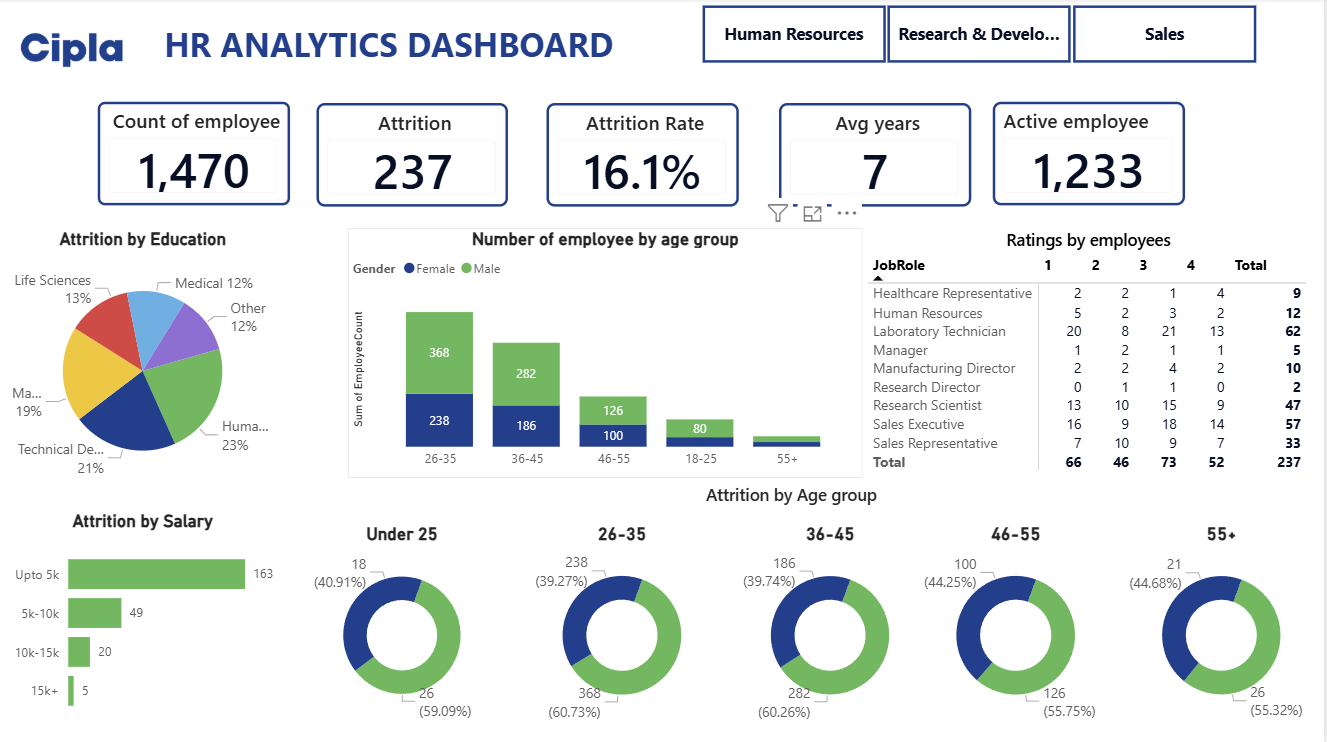

This screenshot's page, from the dashboard's own definition file:
{"tool":"powerbi","page":{"name":"Overview","canvas":[1280,720],"ordinal":0},"visuals":[{"type":"cardVisual","title":"Count of employee","fields":{"Data":["CountNonNull(HR_Analytics.EmpID)"]},"box":[95.7,100,185.7,100],"z":0},{"type":"cardVisual","title":"Attrition","fields":{"Data":["Sum(HR_Analytics.AttritionCount)"]},"box":[306.8,101.4,185,100],"z":1000},{"type":"cardVisual","title":"Attrition Rate","fields":{"Data":["HR_Analytics.AttritionRate"]},"box":[528.6,101.4,185.7,100],"z":2000},{"type":"cardVisual","title":"Avg years","fields":{"Data":["Avg(HR_Analytics.YearsAtCompany)"]},"box":[752.9,101.4,185.7,100],"z":3000},{"type":"pieChart","title":"Attrition by Education","fields":{"Category":["HR_Analytics.EducationField"],"Y":["HR_Analytics.AttritionRate"]},"box":[6,222,265.4,257],"z":4000},{"type":"columnChart","title":"Number of employee by age group","fields":{"Category":["HR_Analytics.AgeGroup"],"Y":["Sum(HR_Analytics.EmployeeCount)"],"Series":["HR_Analytics.Gender"]},"box":[336.6,222,497.1,241.3],"z":5000},{"type":"pivotTable","title":"Ratings by employees","fields":{"Rows":["HR_Analytics.JobRole"],"Columns":["HR_Analytics.JobSatisfaction"],"Values":["Sum(HR_Analytics.AttritionCount)"]},"box":[833.7,222,435.5,241.3],"z":6000},{"type":"barChart","title":"Attrition by Salary","fields":{"Category":["HR_Analytics.SalarySlab"],"Y":["Sum(HR_Analytics.AttritionCount)"]},"box":[6,494.6,265.4,209.9],"z":7000},{"type":"slicer","fields":{"Values":["HR_Analytics.Department"]},"box":[653.1,0,584.6,69.7],"z":8000},{"type":"textbox","box":[154.3,0,498.6,91.4],"z":9000},{"type":"cardVisual","title":"Active employee","fields":{"Data":["HR_Analytics.Active employee"]},"box":[958.6,100,185.7,100],"z":10000},{"type":"donutChart","title":"Under 25","fields":{"Category":["HR_Analytics.Gender"],"Y":["Sum(HR_Analytics.AttritionCount)"],"Series":["HR_Analytics.AgeGroup"]},"box":[290.8,506.7,196.6,197.9],"z":11000},{"type":"donutChart","title":"26-35","fields":{"Category":["HR_Analytics.Gender"],"Series":["HR_Analytics.AgeGroup"],"Y":["CountNonNull(HR_Analytics.Attrition)"]},"box":[500.7,506.7,201.5,197.9],"z":12000},{"type":"donutChart","title":"36-45","fields":{"Category":["HR_Analytics.Gender"],"Series":["HR_Analytics.AgeGroup"],"Y":["CountNonNull(HR_Analytics.Attrition)"]},"box":[702.1,506.7,200.3,197.9],"z":13000},{"type":"donutChart","title":"46-55","fields":{"Category":["HR_Analytics.Gender"],"Series":["HR_Analytics.AgeGroup"],"Y":["CountNonNull(HR_Analytics.Attrition)"]},"box":[880.7,506.7,201.5,197.9],"z":14000},{"type":"donutChart","title":"55+","fields":{"Category":["HR_Analytics.Gender"],"Series":["HR_Analytics.AgeGroup"],"Y":["CountNonNull(HR_Analytics.Attrition)"]},"box":[1079.8,506.7,200.3,197.9],"z":15000},{"type":"textbox","box":[291.4,462.9,945.7,31.4],"z":16000},{"type":"image","box":[0,0,138.6,100],"z":17000}]}

Visuals, with their boxes in screenshot pixels (x1, y1, x2, y2), scaled from the page's 1280x720 canvas onto the 1327x742 screenshot:
"Count of employee" cardVisual: (x1=99, y1=103, x2=292, y2=206)
"Attrition" cardVisual: (x1=318, y1=104, x2=510, y2=208)
"Attrition Rate" cardVisual: (x1=548, y1=104, x2=741, y2=208)
"Avg years" cardVisual: (x1=781, y1=104, x2=973, y2=208)
"Attrition by Education" pieChart: (x1=6, y1=229, x2=281, y2=494)
"Number of employee by age group" columnChart: (x1=349, y1=229, x2=864, y2=477)
"Ratings by employees" pivotTable: (x1=864, y1=229, x2=1316, y2=477)
"Attrition by Salary" barChart: (x1=6, y1=510, x2=281, y2=726)
slicer - HR_Analytics.Department: (x1=677, y1=0, x2=1283, y2=72)
textbox: (x1=160, y1=0, x2=677, y2=94)
"Active employee" cardVisual: (x1=994, y1=103, x2=1186, y2=206)
"Under 25" donutChart: (x1=301, y1=522, x2=505, y2=726)
"26-35" donutChart: (x1=519, y1=522, x2=728, y2=726)
"36-45" donutChart: (x1=728, y1=522, x2=936, y2=726)
"46-55" donutChart: (x1=913, y1=522, x2=1122, y2=726)
"55+" donutChart: (x1=1119, y1=522, x2=1326, y2=726)
textbox: (x1=302, y1=477, x2=1283, y2=509)
image: (x1=0, y1=0, x2=144, y2=103)
